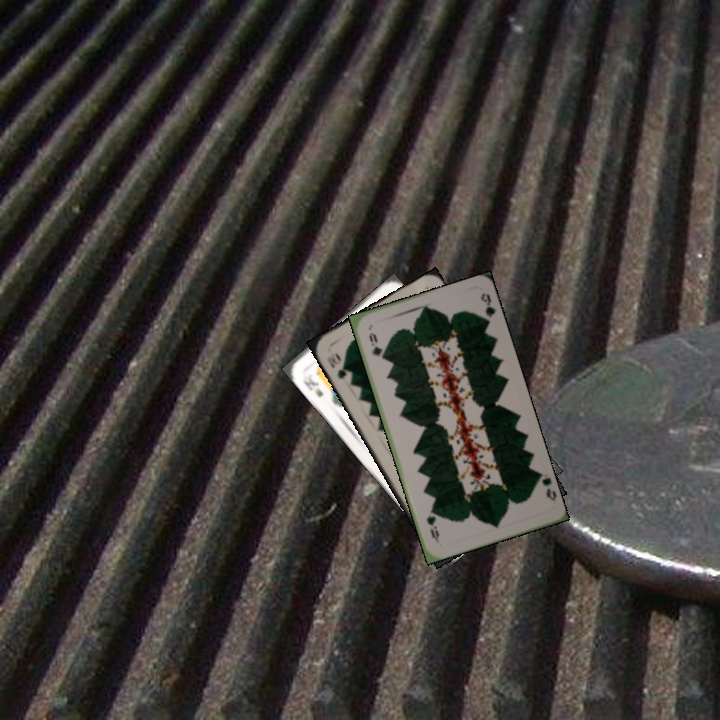EK: (298, 370, 326, 400)
G10: (323, 349, 349, 383)
G9: (532, 469, 558, 504), (365, 329, 386, 361)
